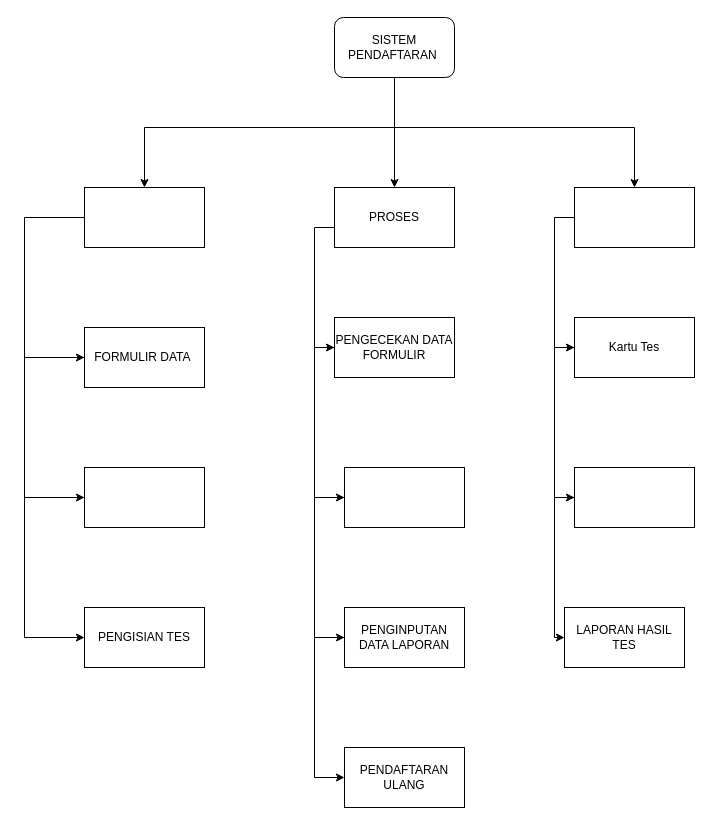
The diagram is 712 pixels wide and 825 high, and some of its shapes have lost their labels. The centre of each missing label's shape, as x and y in pixels:
BERKAS PENDFTARAN: (144,497)
INPUT: (144,217)
KARTU PENDAFTARAN ULANG: (634,497)
OUTPUT: (634,217)
PENGECEKAN TES: (404,497)
